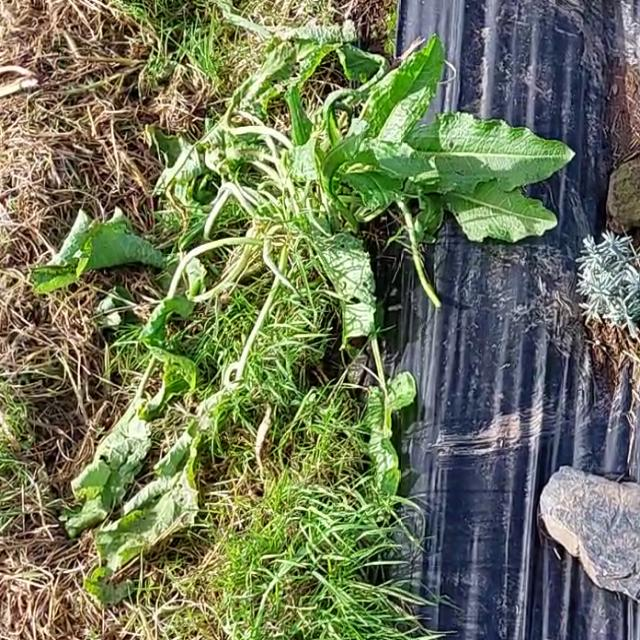organic waste: (168, 8, 592, 308), (64, 300, 307, 626), (8, 192, 336, 364), (296, 272, 451, 542)
